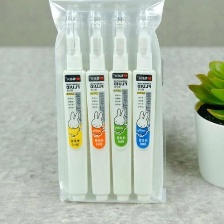correction_fluid: (82, 7, 113, 202), (129, 3, 158, 201), (61, 5, 90, 202), (106, 2, 134, 202)
